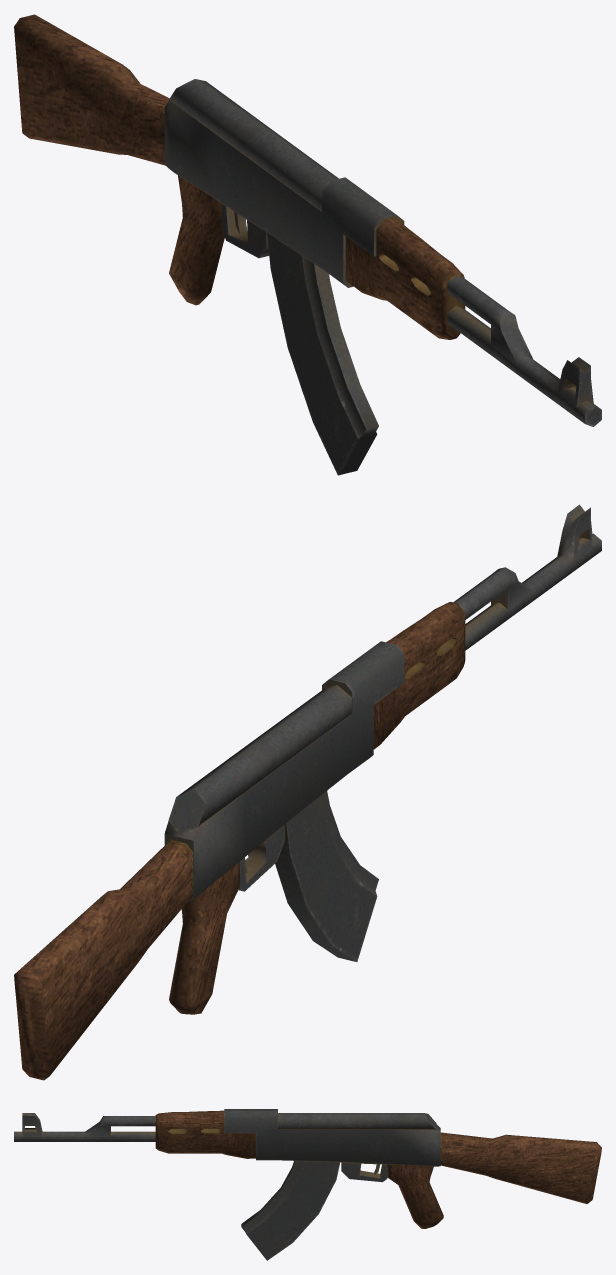
The picture shows the model from 3 angles, top to bottom: view 1: azimuth 30°, elevation 25°; view 2: azimuth 150°, elevation 25°; view 3: azimuth 270°, elevation 25°; orthographic projection. The views are drawn at different scales.
Visible parts, largest first — view 1: AK 47; view 2: AK 47; view 3: AK 47.
Boxes of the visible parts, x1,y1,x2,y2 form: AK 47: [14, 14, 601, 475]; AK 47: [14, 504, 601, 1080]; AK 47: [14, 1109, 601, 1260].
Size of the model in its own units: 0.0539 by 0.4833 by 1.75.
1 material, 1 textured.
